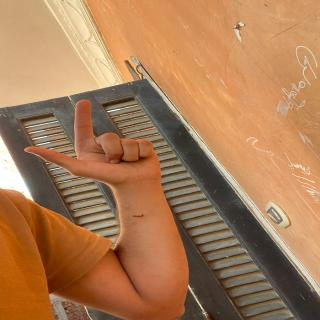LAAM: (22, 94, 188, 201)
